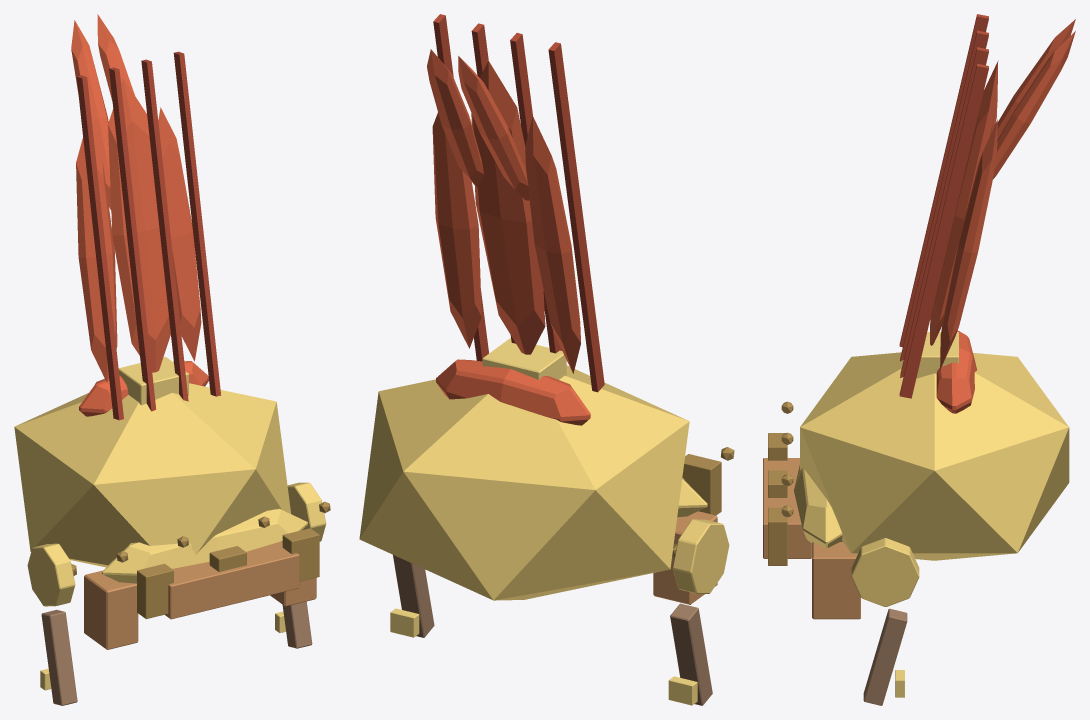
The model's file is helmet_centurion.glb.
3 views of the same model, side by side, from view 1: azimuth 30°, elevation 25°; view 2: azimuth 150°, elevation 25°; view 3: azimuth 270°, elevation 25° (orthographic). The views are drawn at different scales.
Visible parts, largest first — view 1: Helmet; view 2: Helmet; view 3: Helmet.
Boxes of the visible parts, box(x1,y1,x2,y2) form: Helmet: box(14, 14, 330, 705); Helmet: box(359, 14, 734, 705); Helmet: box(763, 14, 1075, 705).
Size of the model in its own units: 0.66 by 1.39 by 0.6385.
